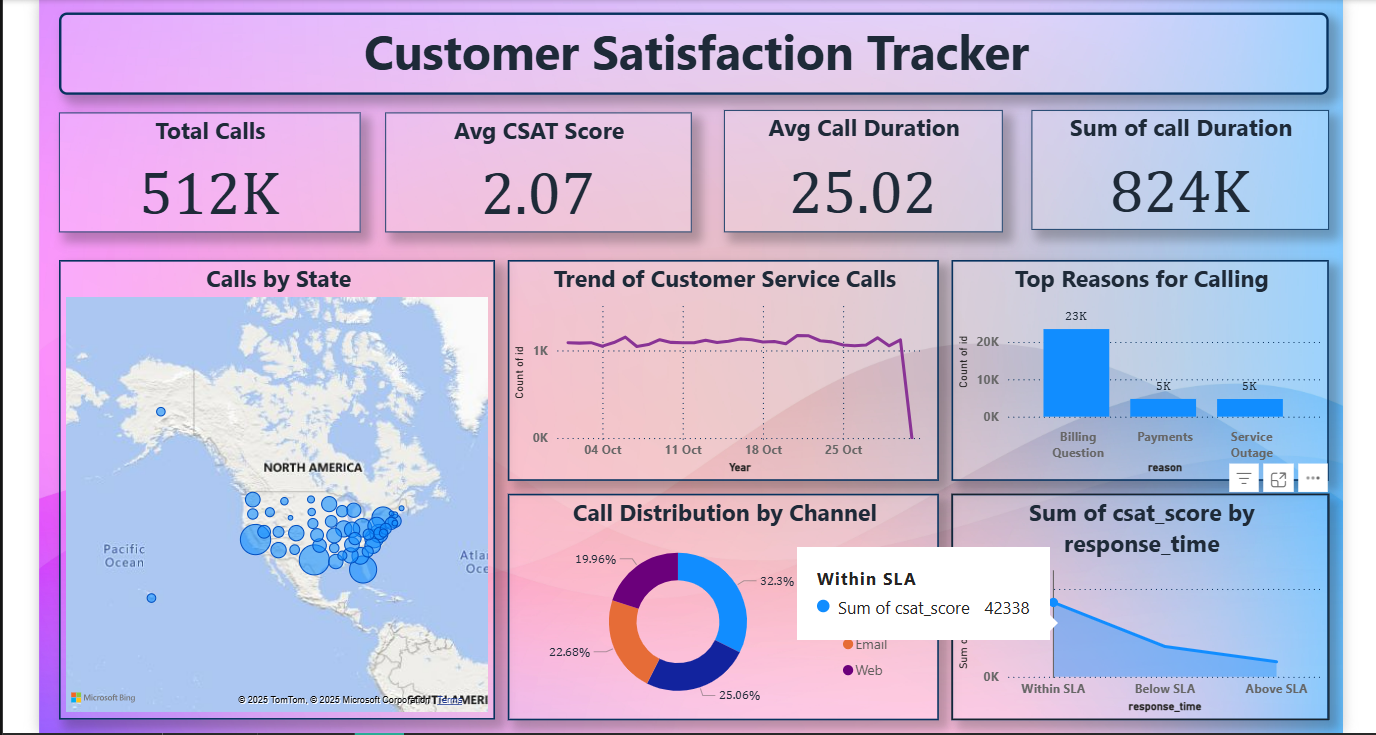

Layout of this report page (visuals, bound fields, positions):
{"tool":"powerbi","page":{"name":"Page 2","canvas":[1280,720],"ordinal":1},"visuals":[{"type":"card","title":"Total Calls","fields":{"Values":["Sum(project_csat_analytics CSAT.Call_Day)"]},"box":[19.6,110.4,295.7,117.8],"z":0},{"type":"card","title":"Avg CSAT Score","fields":{"Values":["Avg(project_csat_analytics CSAT.csat_score)"]},"box":[339.9,110.4,300.6,117.8],"z":1},{"type":"card","title":"Avg Call Duration","fields":{"Values":["Avg(project_csat_analytics CSAT.call_duration_in_minutes)"]},"box":[672.4,108,273.6,120.2],"z":2},{"type":"lineChart","title":"Trend of Customer Service Calls","fields":{"Y":["CountNonNull(project_csat_analytics CSAT.id)"],"Category":["project_csat_analytics CSAT.call_timestamp.Variation.Date Hierarchy.Year","project_csat_analytics CSAT.call_timestamp.Variation.Date Hierarchy.Quarter","project_csat_analytics CSAT.call_timestamp.Variation.Date Hierarchy.Month","project_csat_analytics CSAT.call_timestamp.Variation.Date Hierarchy.Day"]},"box":[460.1,255.2,423.3,217.2],"z":3},{"type":"map","title":"Calls by State","fields":{"Category":["project_csat_analytics CSAT.state"],"Size":["CountNonNull(project_csat_analytics CSAT.id)"]},"box":[19.6,255.2,428.2,451.5],"z":4},{"type":"columnChart","title":"Top Reasons for Calling","fields":{"Category":["project_csat_analytics CSAT.reason"],"Y":["CountNonNull(project_csat_analytics CSAT.id)"]},"box":[895.7,255.2,370.6,217.2],"z":5},{"type":"donutChart","title":"Call Distribution by Channel","fields":{"Category":["project_csat_analytics CSAT.channel"],"Y":["CountNonNull(project_csat_analytics CSAT.Call_Day)"]},"box":[460.1,484.7,423.3,222.1],"z":6},{"type":"stackedAreaChart","fields":{"Category":["project_csat_analytics CSAT.response_time"],"Y":["Sum(project_csat_analytics CSAT.csat_score)"]},"box":[895.7,484.7,370.6,222.1],"z":7},{"type":"textbox","title":"Customer Satisfaction Tracker","box":[19.6,12.3,1246.6,81],"z":8},{"type":"card","title":"Sum of call Duration","fields":{"Values":["Sum(project_csat_analytics CSAT.call_duration_in_minutes)"]},"box":[974.2,108,292,117.8],"z":9}]}

Visuals, with their boxes in screenshot pixels (x1, y1, x2, y2):
"Total Calls" card: 35/108/343/231
"Avg CSAT Score" card: 369/108/682/231
"Avg Call Duration" card: 716/105/1001/231
"Trend of Customer Service Calls" lineChart: 494/259/936/486
"Calls by State" map: 35/259/481/730
"Top Reasons for Calling" columnChart: 949/259/1335/486
"Call Distribution by Channel" donutChart: 494/498/936/730
stackedAreaChart - project_csat_analytics CSAT.response_time x Sum(project_csat_analytics CSAT.csat_score): 949/498/1335/730
"Customer Satisfaction Tracker" textbox: 35/6/1335/90
"Sum of call Duration" card: 1031/105/1335/228
